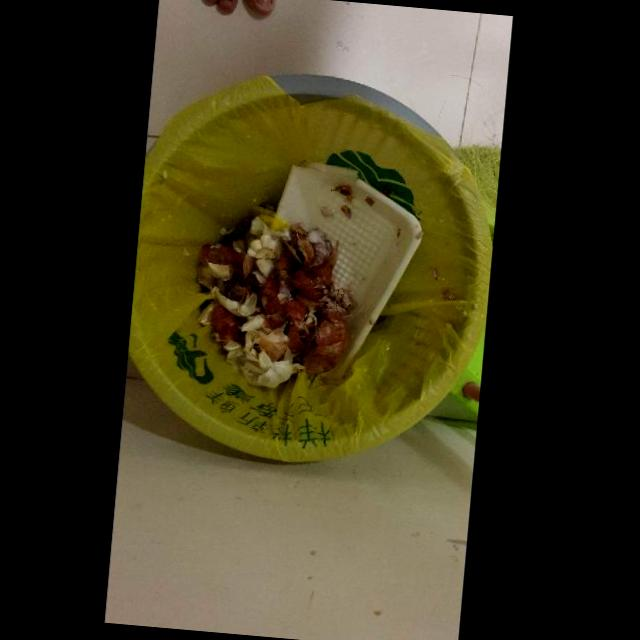vo_rau_cu: (304, 305, 350, 375), (241, 330, 295, 387), (292, 253, 336, 305), (241, 313, 288, 360), (198, 240, 252, 275), (286, 301, 315, 354), (286, 222, 314, 268), (211, 303, 245, 339), (210, 285, 242, 316), (247, 234, 283, 259), (261, 271, 280, 317), (237, 291, 257, 316), (207, 261, 232, 280), (255, 258, 273, 277)
xop: (275, 161, 423, 382)
